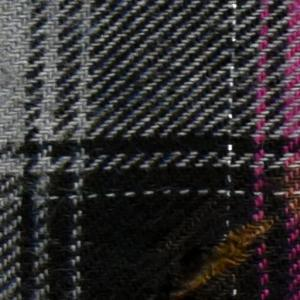Damage: (186, 209, 281, 297)
Oil Stain: (159, 170, 300, 300)
